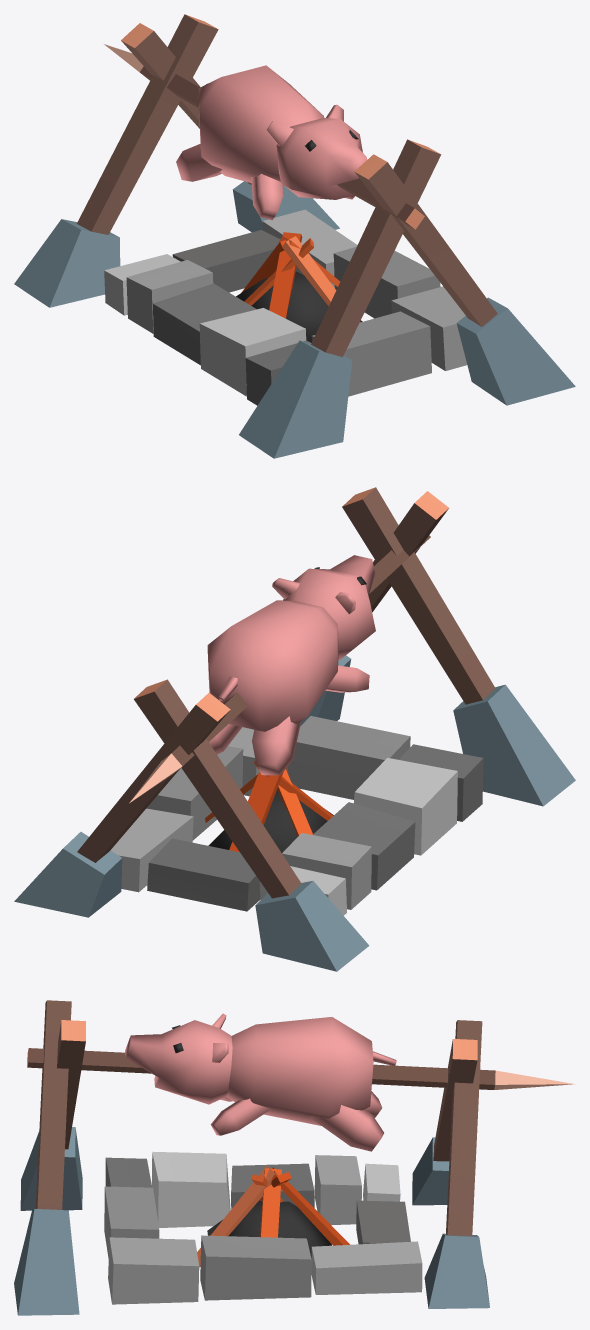
The model's file is bonfire_001.fbx.
3 renders of one model, top to bottom at view 1: azimuth 30°, elevation 25°; view 2: azimuth 150°, elevation 25°; view 3: azimuth 270°, elevation 25°, orthographic. The views are drawn at different scales.
Parts seen in each view (by area): view 1: bonfire_001; view 2: bonfire_001; view 3: bonfire_001.
Part boxes in pixels (bbox=[...]): bonfire_001: bbox=[14, 14, 575, 458]; bonfire_001: bbox=[14, 487, 575, 971]; bonfire_001: bbox=[14, 1000, 575, 1315].
Size of the model in its own units: 110 by 182 by 85.1.
Materials: 2 (2 with a texture image).
